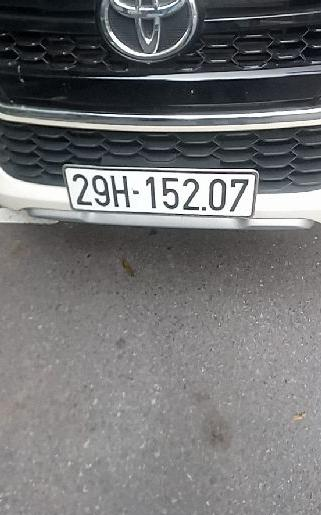Plate-iWeP: (67, 171, 251, 214)
